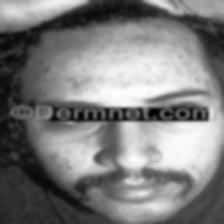Toxin: (144, 78, 168, 90), (132, 62, 152, 72)
